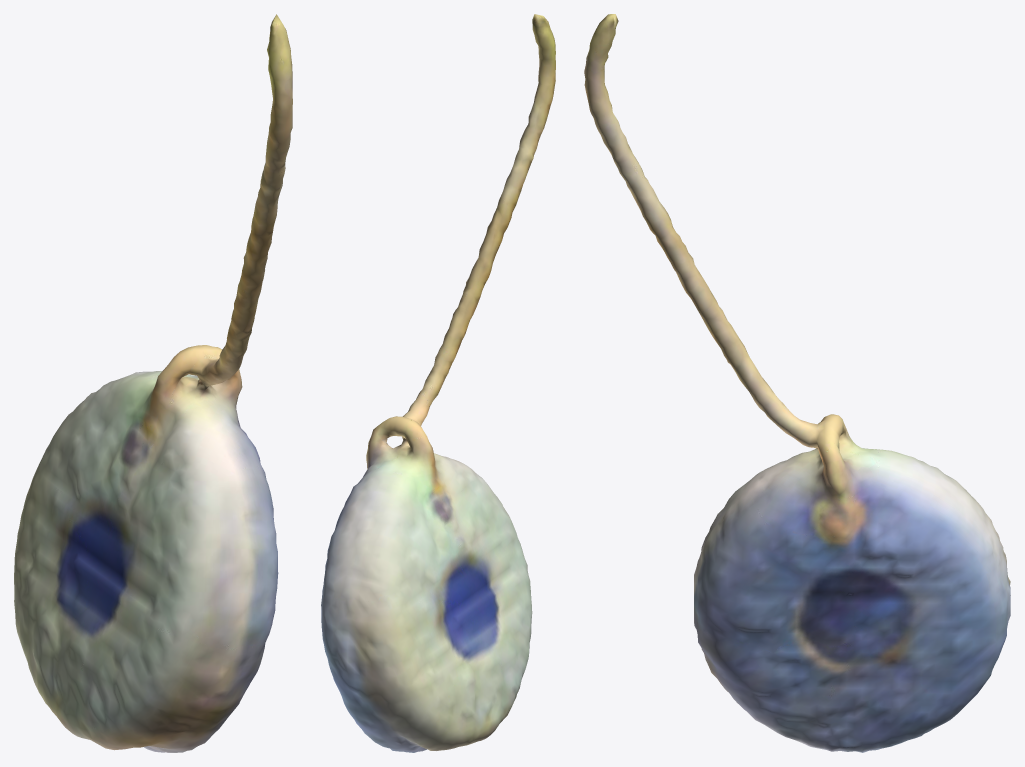
Rendered from Pendant.glb.
3 views of the same model, side by side, from view 1: azimuth 30°, elevation 25°; view 2: azimuth 150°, elevation 25°; view 3: azimuth 270°, elevation 25° (orthographic). The views are drawn at different scales.
Visible parts, largest first — view 1: Mesh1; view 2: Mesh1; view 3: Mesh1.
Boxes of the visible parts, <box> form: Mesh1: <box>14,14,292,752</box>; Mesh1: <box>321,14,555,752</box>; Mesh1: <box>584,14,1010,752</box>.
Size of the model in its own units: 0.2575 by 1.2 by 0.6301.
1 material, 1 textured.
